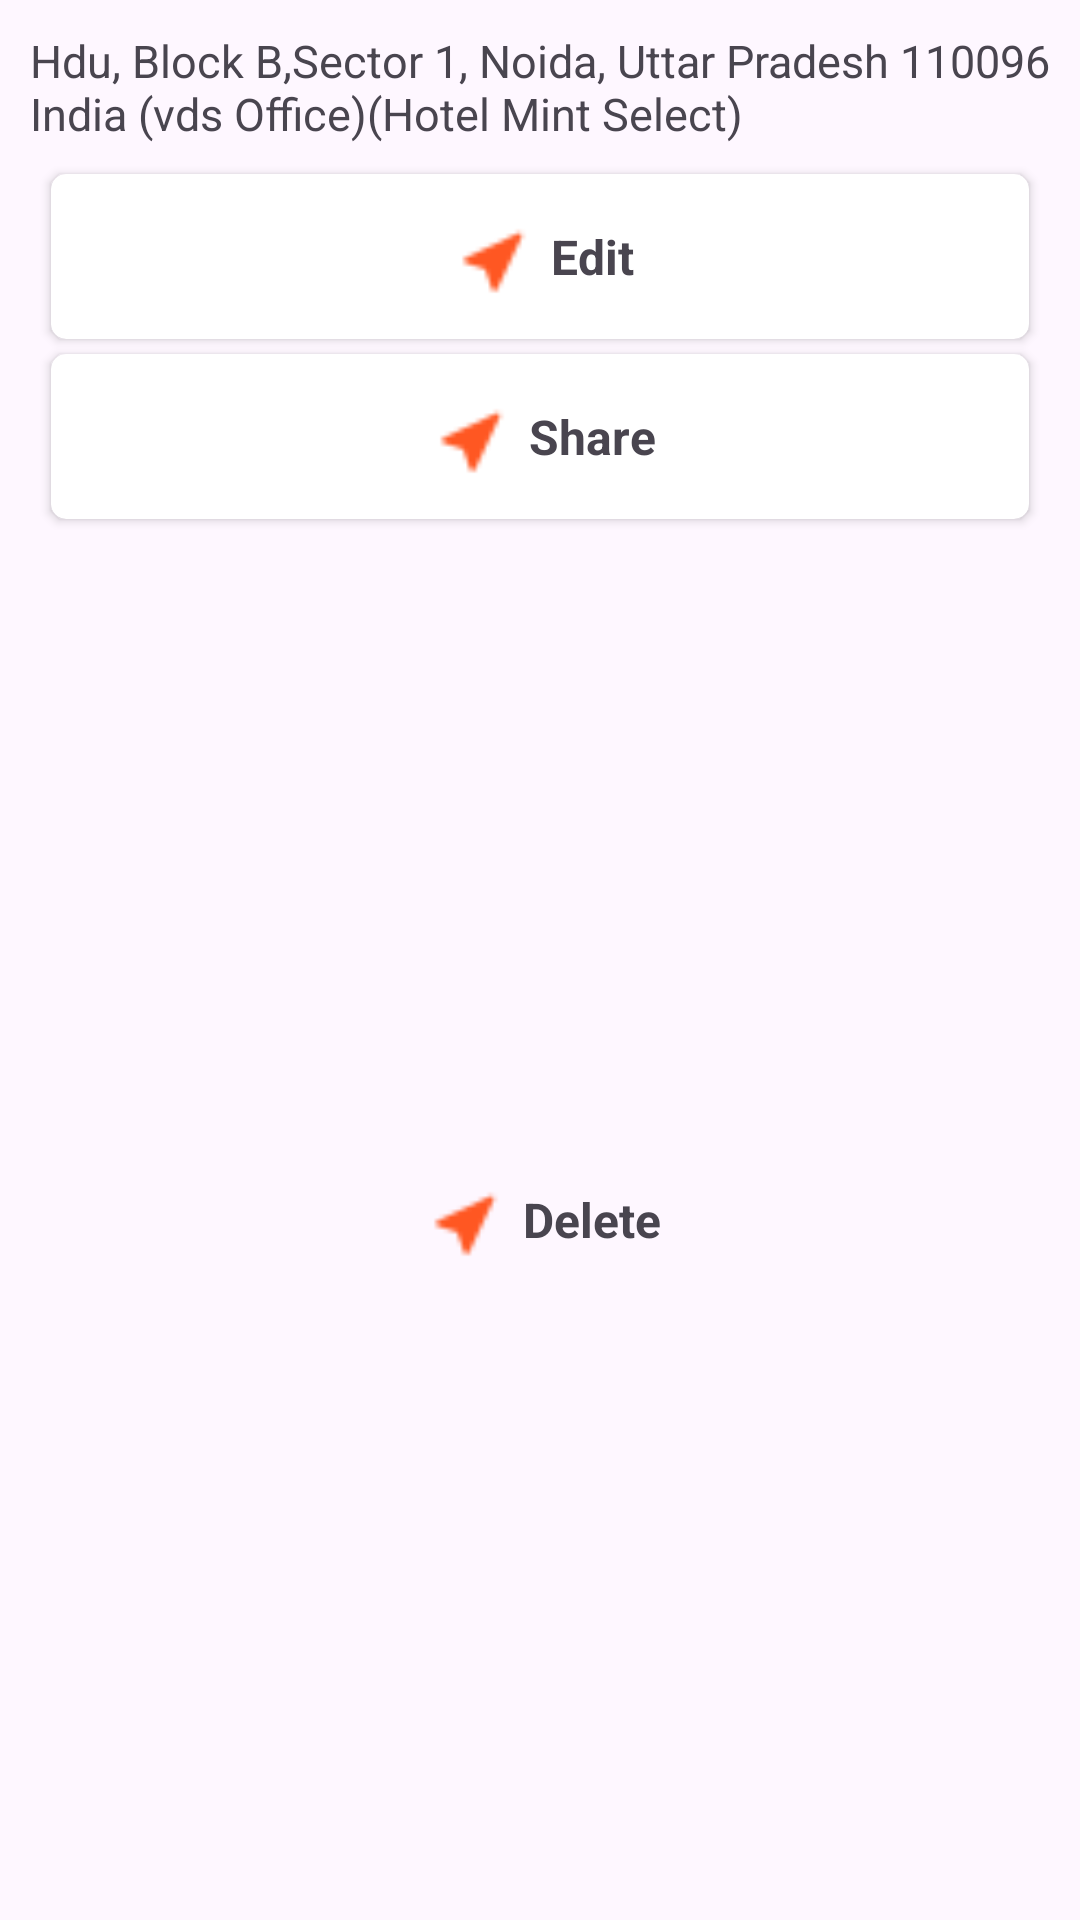

Where to tap for icons on this 1080px x 1920px app screen, as [x,y]:
location: [493,261], [471,441], [465,1224]
